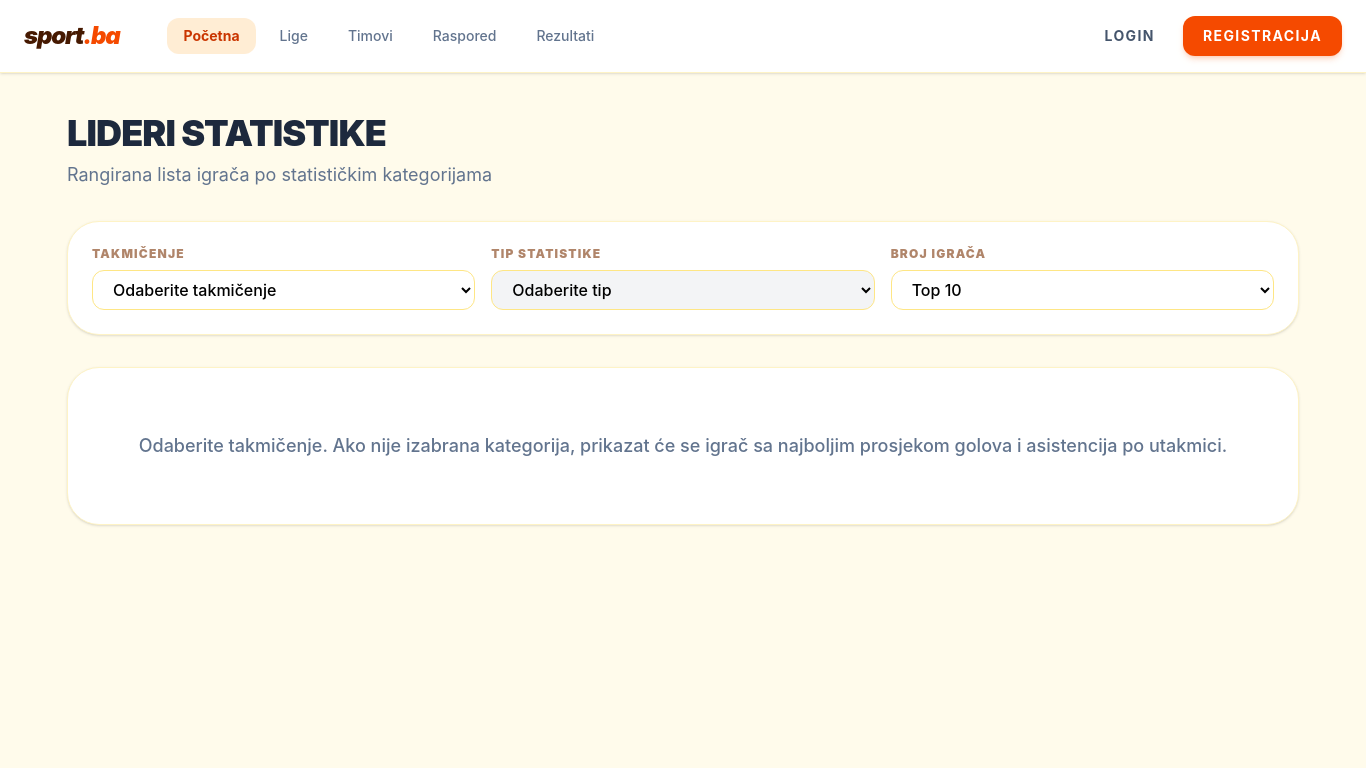
Test case: TopStrijelci stranica › trebalo bi da prikaže grešku ako dohvat ne uspije
The image size is (1366, 768).
Select "Liga" in the 1st dropdown showing "Odaberite takmičenje" at (284, 290), box [92, 270, 475, 310]
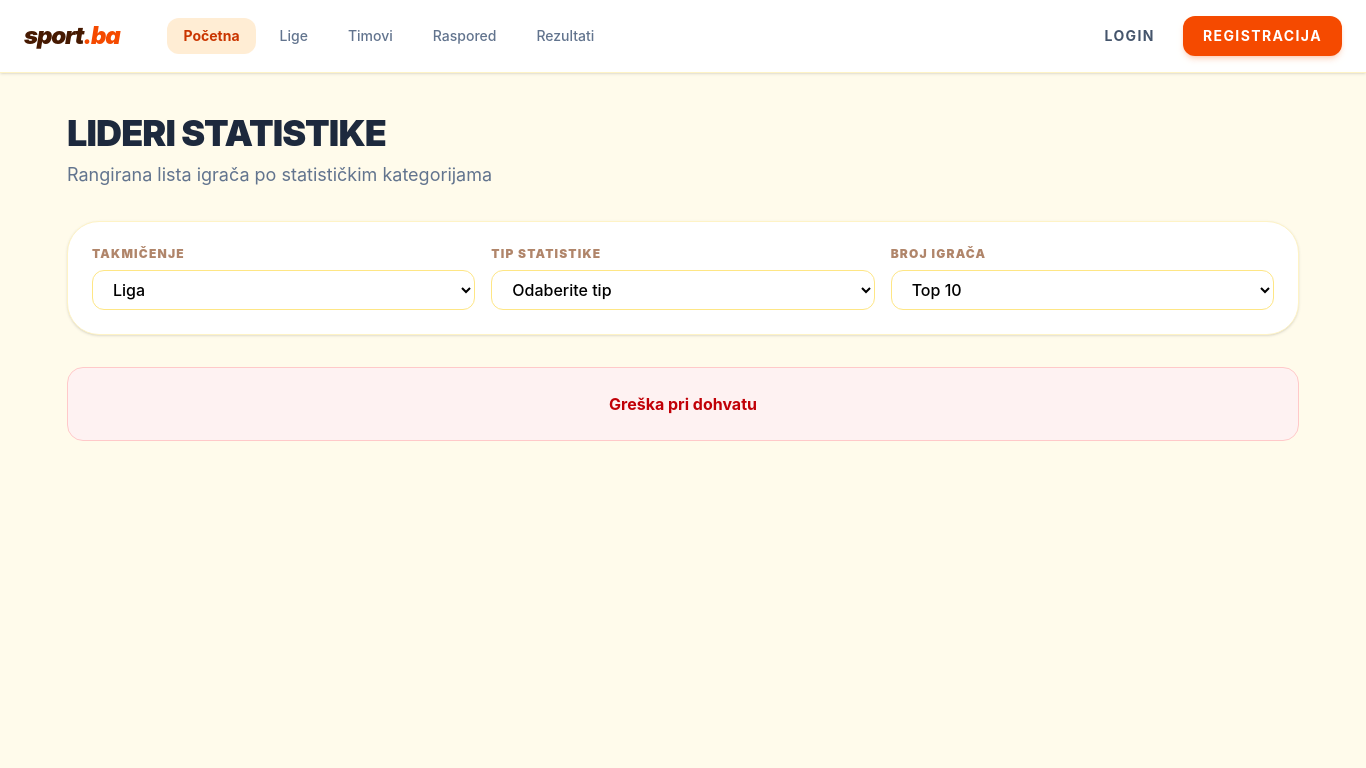
expect the text "Greška pri dohvatu" is shown: met, box [67, 367, 1299, 441]
